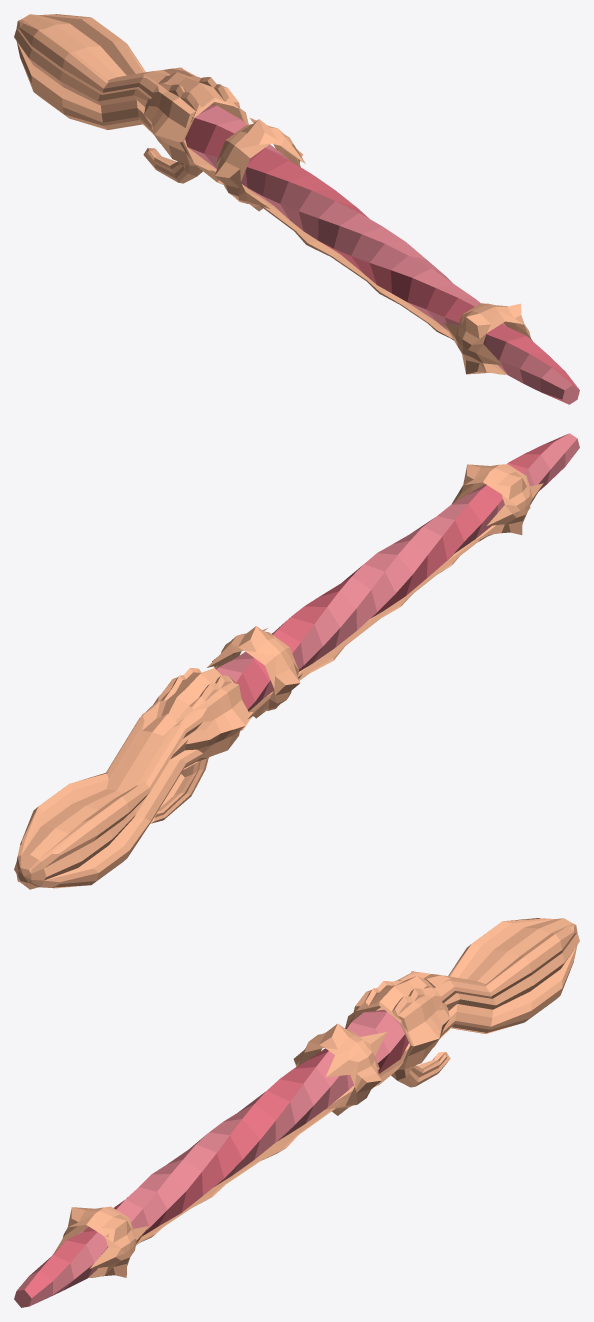
File: CrystalRifle.fbx
The picture shows the model from 3 angles, top to bottom: view 1: azimuth 30°, elevation 25°; view 2: azimuth 150°, elevation 25°; view 3: azimuth 330°, elevation 25°; orthographic projection.
Visible parts, largest first — view 1: Metal Gun Elements, Crystal Barrel; view 2: Metal Gun Elements, Crystal Barrel; view 3: Metal Gun Elements, Crystal Barrel.
Boxes of the visible parts, box(x1,y1,x2,y2) form: Metal Gun Elements: box(14, 14, 532, 374); Crystal Barrel: box(185, 105, 579, 404); Metal Gun Elements: box(14, 464, 543, 889); Crystal Barrel: box(216, 433, 579, 711); Metal Gun Elements: box(54, 918, 579, 1277); Crystal Barrel: box(14, 1009, 408, 1307).
Bounding box in the file's own units: 38.14 × 48.83 × 396.
